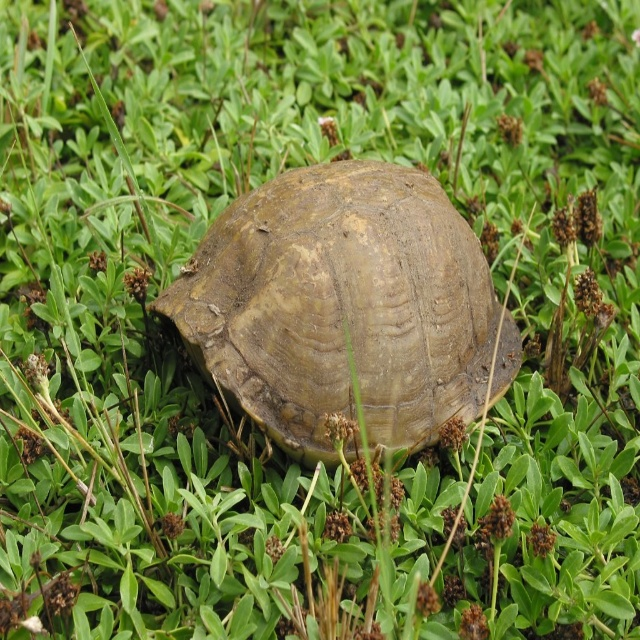Tortoise: (145, 159, 522, 476)
